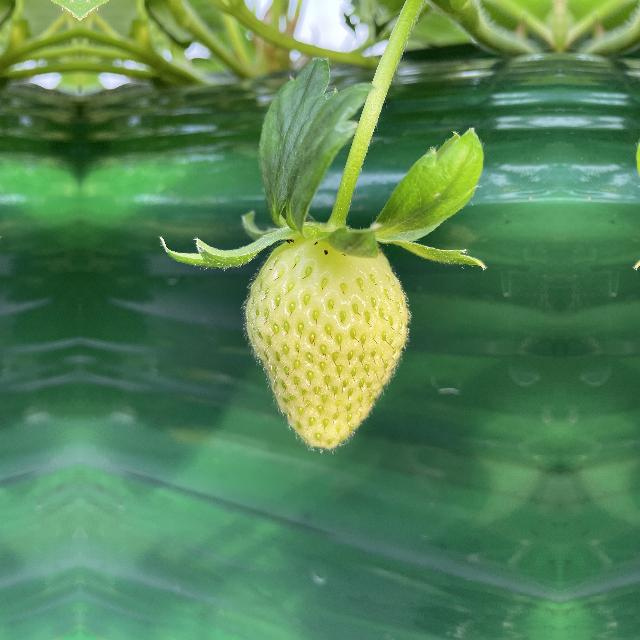Health_25: (246, 216, 414, 456)
